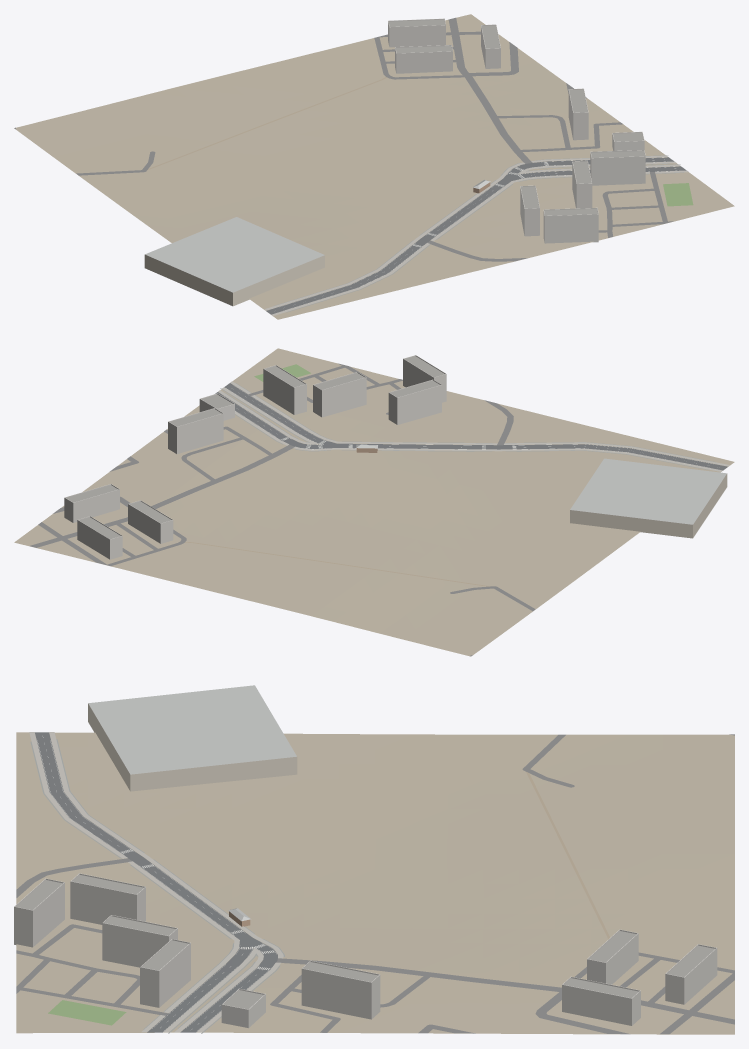
Rendered from bolak_-11_-18.glb.
3 renders of one model, top to bottom at view 1: azimuth 30°, elevation 25°; view 2: azimuth 150°, elevation 25°; view 3: azimuth 270°, elevation 25°, orthographic. The views are drawn at different scales.
Visible parts, largest first — view 1: Yer_Tuproq-col, Devor_Panel-col, Tom_Shifer, Yol_Mahalla-col, Tom_Tekis, Yol_Asfalt-col, Trotuar, Devor_Suvoq-col, Ariq, Yer_Maysa; view 2: Yer_Tuproq-col, Devor_Panel-col, Tom_Shifer, Yol_Mahalla-col, Yol_Asfalt-col, Trotuar, Tom_Tekis, Devor_Suvoq-col, Ariq; view 3: Yer_Tuproq-col, Devor_Panel-col, Tom_Shifer, Yol_Mahalla-col, Yol_Asfalt-col, Tom_Tekis, Trotuar, Devor_Suvoq-col, Ariq, Yer_Maysa, Devor_Dokon-col, Yol_Chiziq (+1 smaller).
Part boxes in pixels (x1,y1,x2,y2): Yer_Tuproq-col: [14, 14, 734, 319]; Devor_Panel-col: [388, 18, 645, 243]; Tom_Shifer: [145, 179, 490, 292]; Yol_Mahalla-col: [14, 17, 673, 261]; Tom_Tekis: [388, 19, 644, 215]; Yol_Asfalt-col: [266, 157, 686, 314]; Trotuar: [264, 155, 688, 315]; Devor_Suvoq-col: [144, 254, 324, 306]; Ariq: [273, 155, 683, 312]; Yer_Maysa: [663, 183, 693, 206]; Yer_Tuproq-col: [14, 348, 734, 656]; Devor_Panel-col: [64, 355, 446, 559]; Tom_Shifer: [356, 444, 726, 524]; Yol_Mahalla-col: [29, 363, 535, 656]; Yol_Asfalt-col: [215, 383, 727, 470]; Trotuar: [218, 381, 729, 471]; Tom_Tekis: [66, 356, 444, 539]; Devor_Suvoq-col: [570, 473, 727, 538]; Ariq: [220, 383, 715, 470]; Yer_Tuproq-col: [16, 732, 734, 1034]; Devor_Panel-col: [14, 873, 717, 1025]; Tom_Shifer: [88, 685, 296, 921]; Yol_Mahalla-col: [16, 734, 734, 1034]; Yol_Asfalt-col: [35, 732, 277, 1032]; Tom_Tekis: [16, 875, 714, 1009]; Trotuar: [29, 732, 283, 1032]; Devor_Suvoq-col: [88, 703, 297, 791]; Ariq: [30, 739, 284, 1033]; Yer_Maysa: [48, 1000, 126, 1025]; Devor_Dokon-col: [221, 988, 265, 1028]; Yol_Chiziq: [37, 736, 276, 1030].
Size of what is drawn, in the model's own units: 442 by 25.95 by 401.
